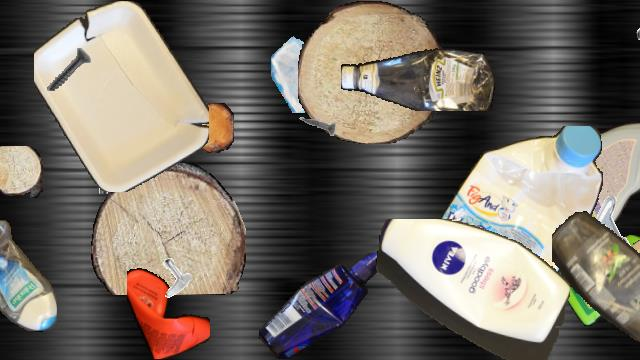glass: (271, 29, 355, 113), (439, 199, 501, 261)
metal: (37, 39, 99, 101), (585, 194, 640, 256), (91, 147, 137, 193), (151, 256, 195, 300), (296, 106, 336, 146), (635, 1, 640, 61)
plastic: (420, 126, 606, 332), (34, 1, 208, 191), (374, 219, 570, 359), (532, 114, 640, 242), (258, 253, 388, 359), (552, 209, 640, 359), (341, 43, 495, 111), (127, 265, 209, 359), (558, 234, 640, 326), (0, 220, 56, 332)
wood: (298, 1, 442, 143), (91, 163, 245, 295), (74, 93, 166, 169), (615, 234, 640, 322), (0, 146, 42, 198), (191, 103, 233, 153)
